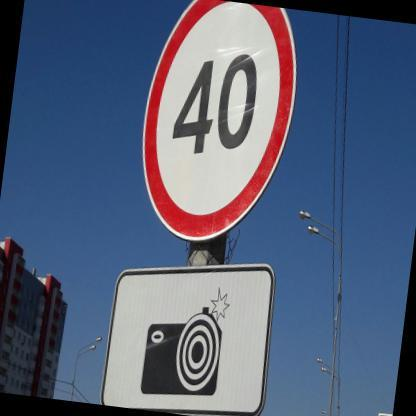road_sign: (141, 0, 297, 243), (100, 263, 277, 416)
